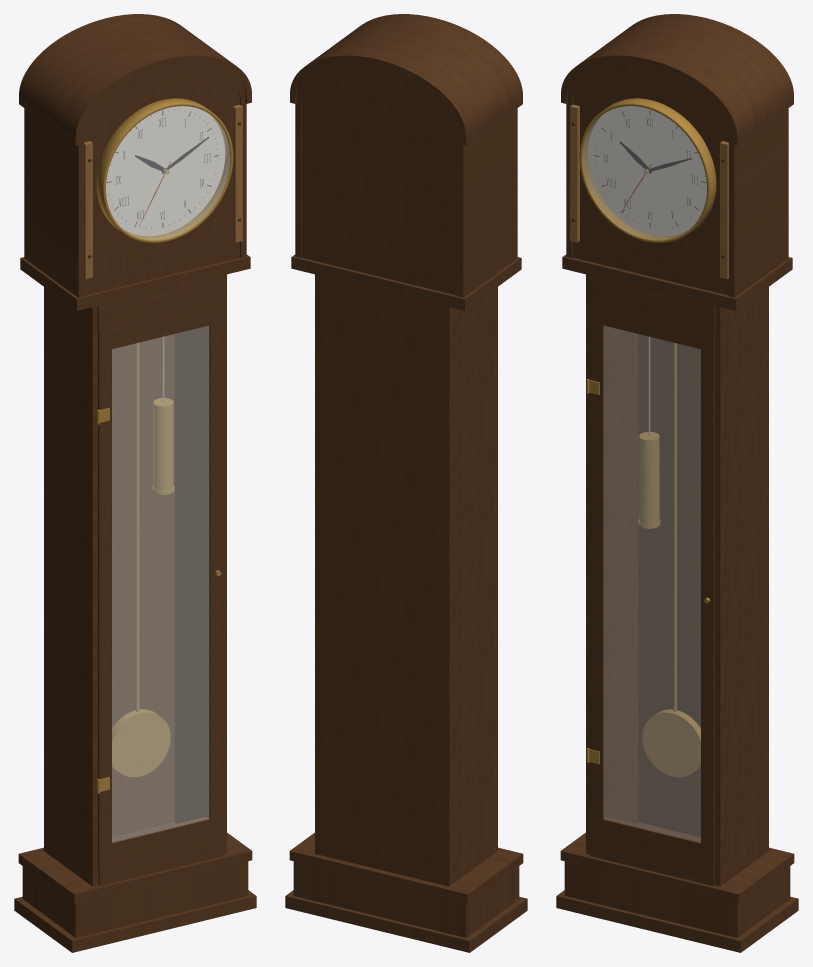
The model's file is grandfather-clock.glb.
3 views of the same model, side by side, from view 1: azimuth 30°, elevation 25°; view 2: azimuth 150°, elevation 25°; view 3: azimuth 330°, elevation 25° (orthographic).
Visible parts, largest first — view 1: Finite trunk door glazing, Tall case side board -1, Tall case back board, Tall case side board 1, Longcase hood dial board, Arched crown moulding, Finite dial glazing, Original enamel dial, Arched longcase hood carcass, Trunk glazed door stile 1, Grandfather lower base, Trunk glazed door stile -1 (+13 smaller); view 2: Tall case back board, Closed hood rear board, Tall case side board -1, Arched crown moulding, Arched longcase hood carcass, Grandfather lower base, Grandfather base cap, Grandfather foot plinth, Hood lower moulding, Tall case side board 1; view 3: Finite trunk door glazing, Tall case side board 1, Tall case back board, Tall case side board -1, Longcase hood dial board, Arched crown moulding, Finite dial glazing, Original enamel dial, Arched longcase hood carcass, Trunk glazed door stile -1, Grandfather lower base, Trunk glazed door stile 1 (+13 smaller).
Boxes of the visible parts, left/top/right/bottom form: Finite trunk door glazing: left=112, top=326, right=209, bottom=842; Tall case side board -1: left=44, top=287, right=98, bottom=886; Tall case back board: left=112, top=334, right=174, bottom=837; Tall case side board 1: left=174, top=274, right=226, bottom=854; Longcase hood dial board: left=84, top=68, right=239, bottom=295; Arched crown moulding: left=19, top=14, right=251, bottom=145; Finite dial glazing: left=106, top=106, right=230, bottom=239; Original enamel dial: left=106, top=106, right=225, bottom=236; Arched longcase hood carcass: left=24, top=63, right=246, bottom=297; Trunk glazed door stile 1: left=206, top=299, right=222, bottom=840; Grandfather lower base: left=22, top=861, right=248, bottom=937; Trunk glazed door stile -1: left=98, top=326, right=111, bottom=867; Tall case back board: left=315, top=274, right=448, bottom=886; Closed hood rear board: left=302, top=68, right=457, bottom=295; Tall case side board -1: left=448, top=287, right=497, bottom=886; Arched crown moulding: left=290, top=14, right=522, bottom=145; Arched longcase hood carcass: left=295, top=63, right=517, bottom=297; Grandfather lower base: left=293, top=861, right=519, bottom=937; Grandfather base cap: left=289, top=832, right=523, bottom=903; Grandfather foot plinth: left=285, top=890, right=527, bottom=952; Hood lower moulding: left=291, top=254, right=521, bottom=310; Tall case side board 1: left=315, top=274, right=315, bottom=853; Finite trunk door glazing: left=603, top=326, right=700, bottom=842; Tall case side board 1: left=714, top=287, right=768, bottom=886; Tall case back board: left=638, top=334, right=700, bottom=837; Tall case side board -1: left=586, top=274, right=638, bottom=854; Longcase hood dial board: left=573, top=68, right=728, bottom=295; Arched crown moulding: left=561, top=14, right=793, bottom=145; Finite dial glazing: left=582, top=106, right=706, bottom=239; Original enamel dial: left=587, top=106, right=706, bottom=236; Arched longcase hood carcass: left=566, top=63, right=788, bottom=297; Trunk glazed door stile -1: left=590, top=299, right=606, bottom=840; Grandfather lower base: left=564, top=861, right=790, bottom=937; Trunk glazed door stile 1: left=701, top=326, right=714, bottom=867.
Bounding box in the file's own units: 0.502 × 2.26 × 0.2925.
8 materials, 7 textured.
